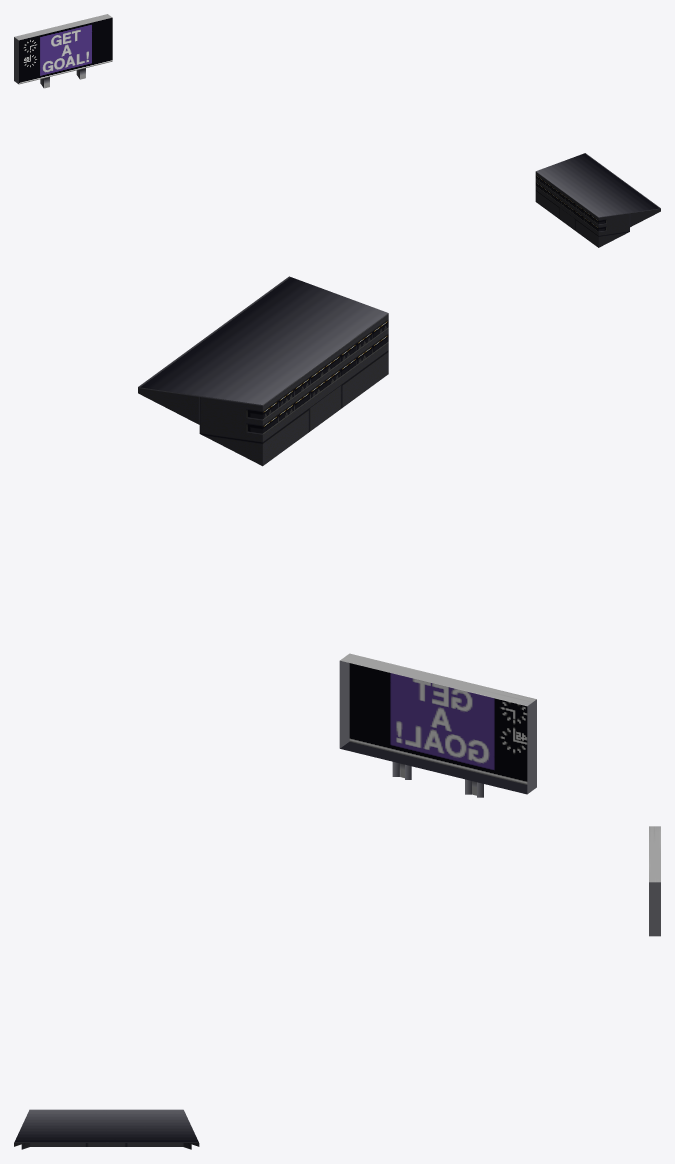
3 renders of one model, top to bottom at view 1: azimuth 30°, elevation 25°; view 2: azimuth 150°, elevation 25°; view 3: azimuth 270°, elevation 25°, orthographic. The views are drawn at different scales.
Bounding box in the file's own units: 127 × 32.5 × 152.
Materials: 5 (5 with a texture image).
